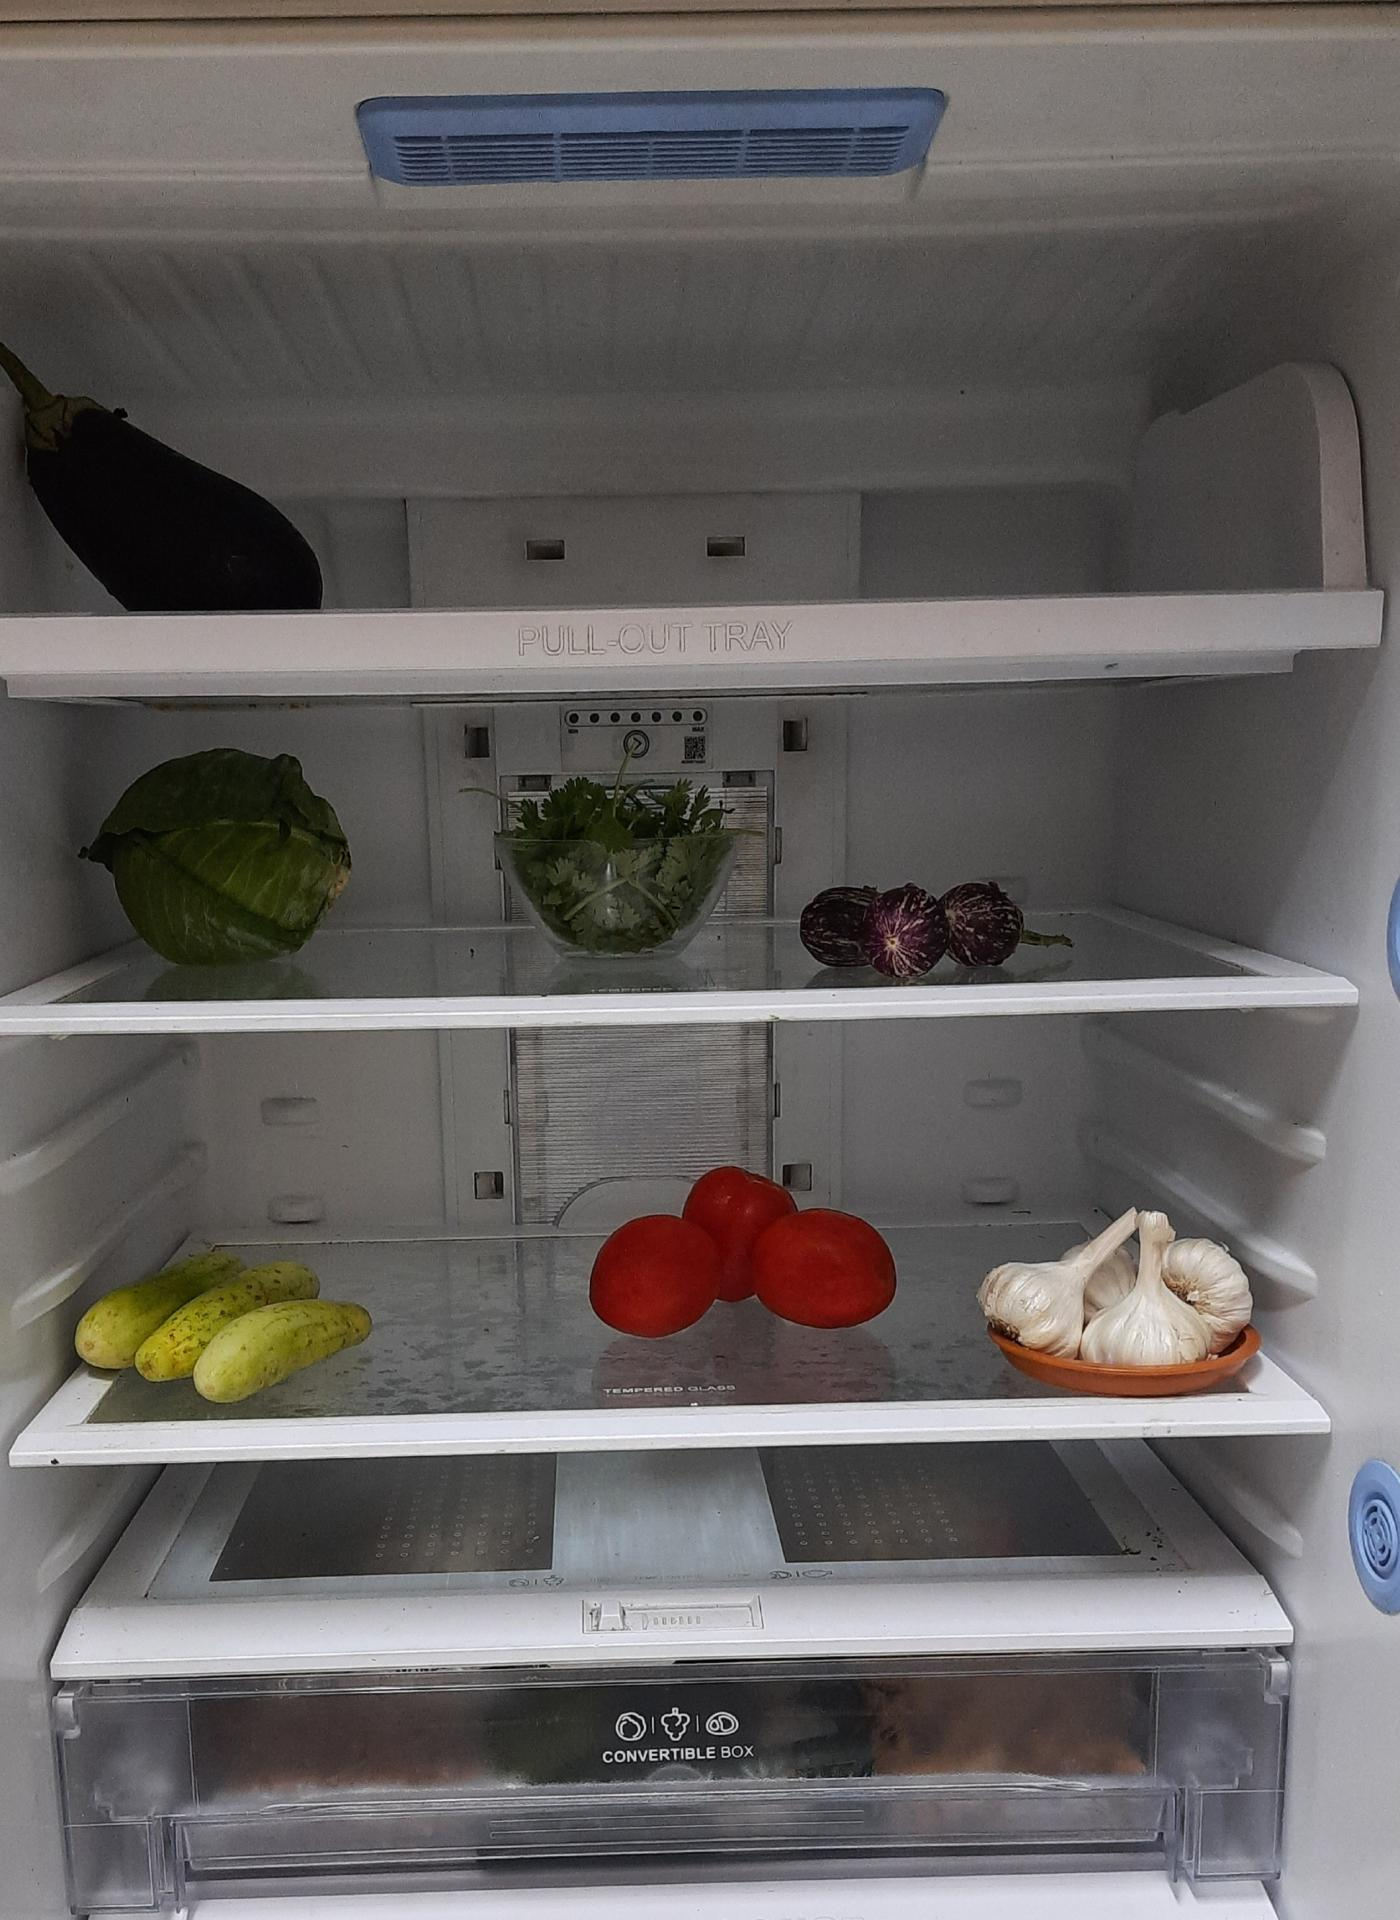brinjal: (6, 335, 332, 614), (798, 871, 1072, 982)
cabbage: (89, 753, 350, 972)
coriander: (498, 778, 728, 957)
cucumber: (72, 1255, 373, 1407)
garlic: (983, 1203, 1255, 1362)
tomato: (593, 1172, 902, 1342)
